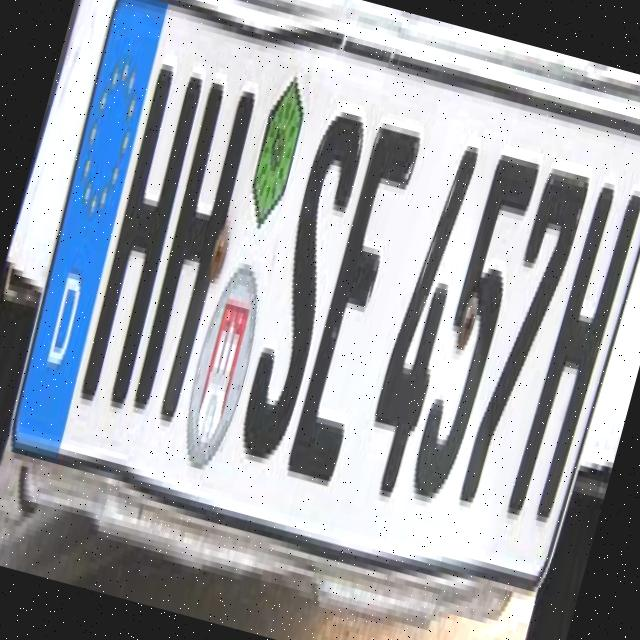Allemagne: (0, 0, 180, 454)
EU: (0, 0, 640, 604)
